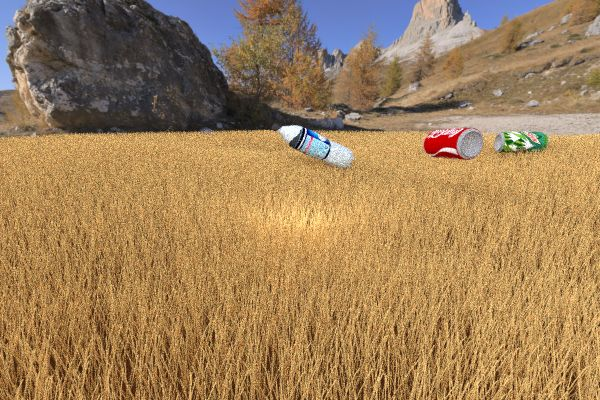bottle: (271, 123, 354, 169)
can: (422, 127, 483, 159), (494, 131, 548, 153)
